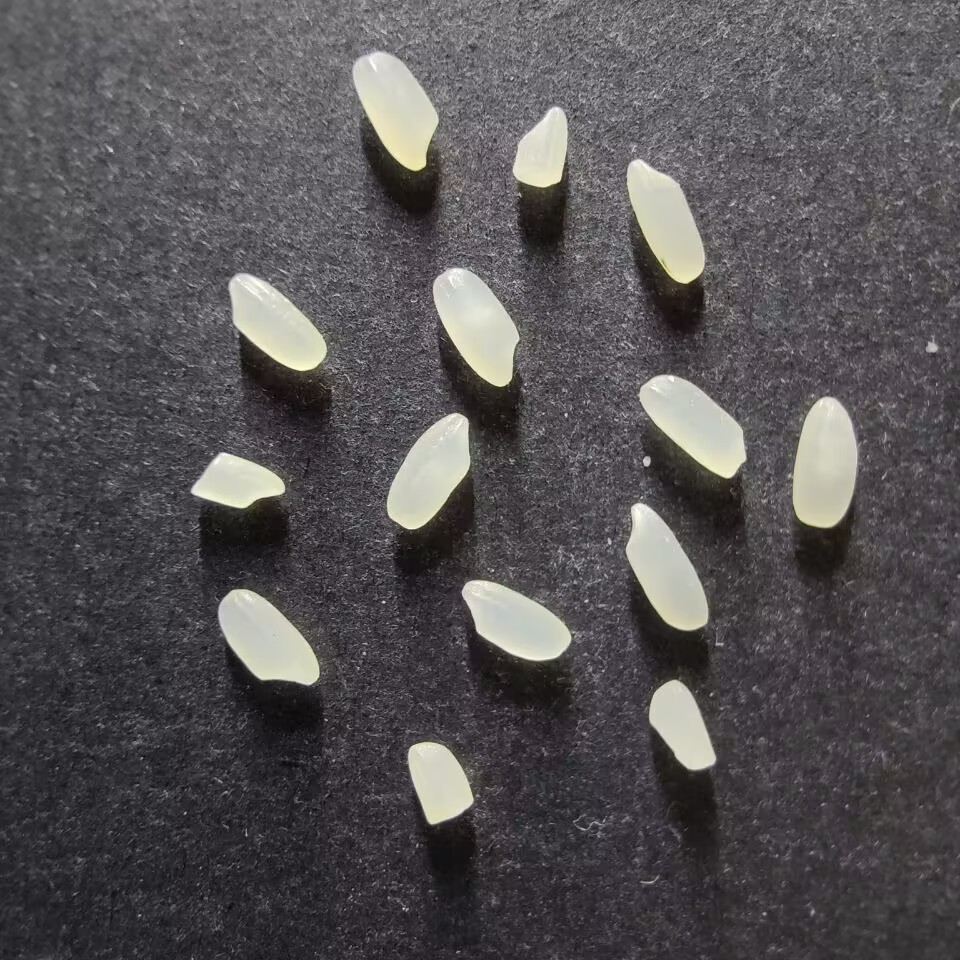broken: (648, 679, 717, 772), (407, 741, 472, 825), (191, 452, 286, 509), (512, 105, 568, 188)
rice: (638, 374, 748, 479), (624, 502, 710, 630), (431, 267, 519, 388), (352, 51, 439, 172), (624, 158, 707, 284), (216, 588, 321, 687), (385, 412, 471, 530), (226, 272, 327, 371), (460, 579, 572, 661), (791, 397, 858, 528)
